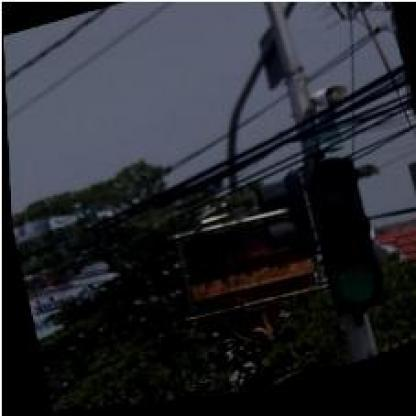green: (297, 159, 385, 328)
